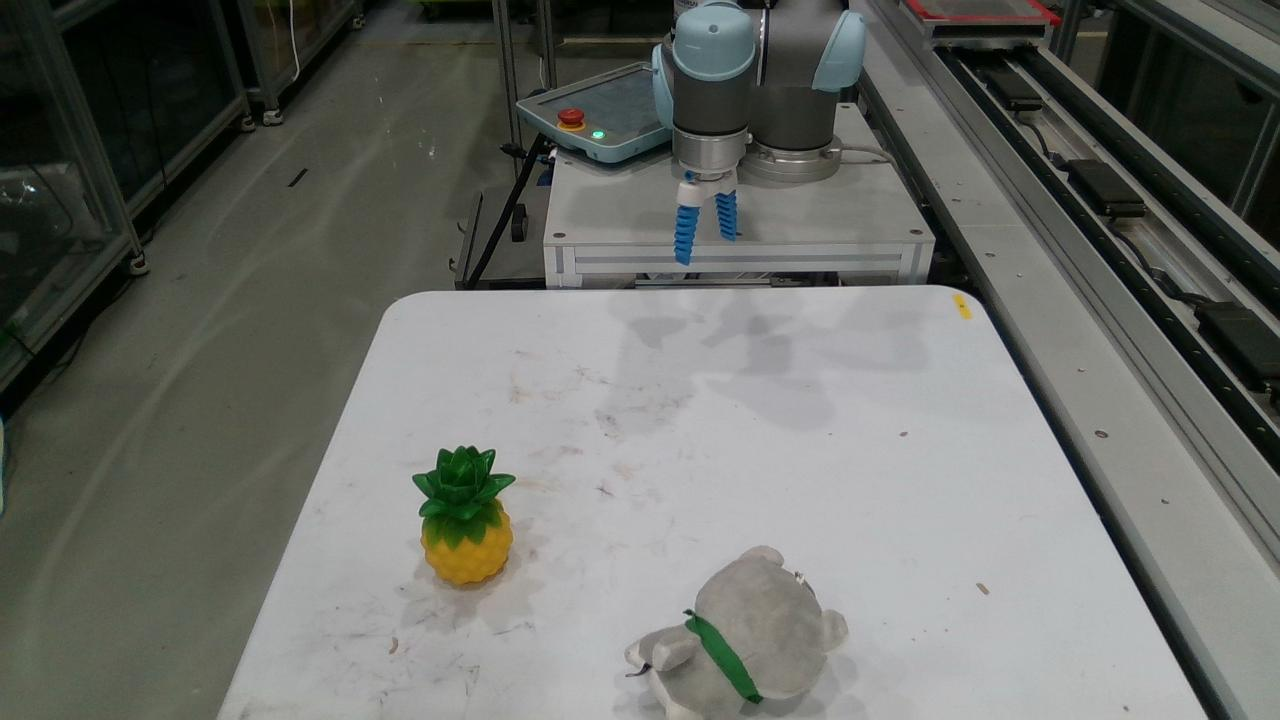UR5: (662, 0, 862, 206)
gripper_left: (674, 207, 698, 263)
gripper_right: (716, 191, 734, 237)
target: (628, 547, 846, 719), (414, 447, 510, 583)
